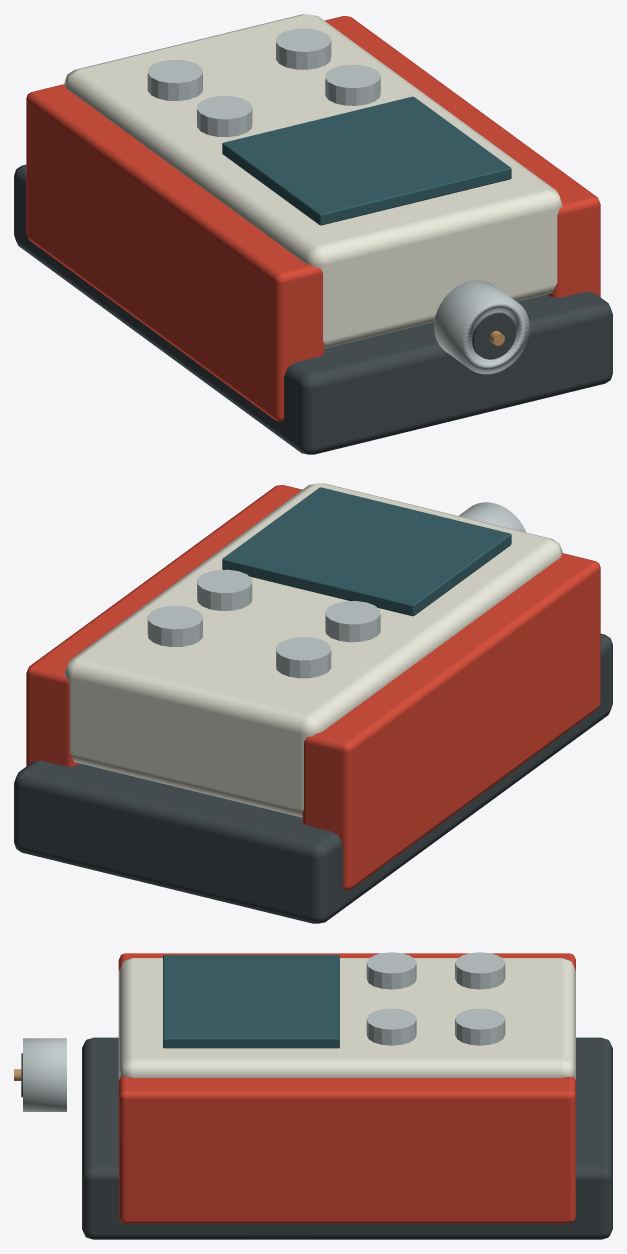
File: broadcast-tower-and-relay-station-broadcast-tower-and--521bd88a__30271.glb
3 views of the same model, one above another, from view 1: azimuth 30°, elevation 25°; view 2: azimuth 150°, elevation 25°; view 3: azimuth 270°, elevation 25° (orthographic). The views are drawn at different scales.
Parts seen in each view (by area): view 1: broadcast-tower-and-relay-station-portable-field-meter; view 2: broadcast-tower-and-relay-station-portable-field-meter; view 3: broadcast-tower-and-relay-station-portable-field-meter.
Boxes of the visible parts, box(x1,y1,x2,y2) form: broadcast-tower-and-relay-station-portable-field-meter: box(14, 14, 612, 454); broadcast-tower-and-relay-station-portable-field-meter: box(14, 483, 612, 923); broadcast-tower-and-relay-station-portable-field-meter: box(14, 952, 612, 1239).
Size of the model in its own units: 0.229 by 0.138 by 0.406.
